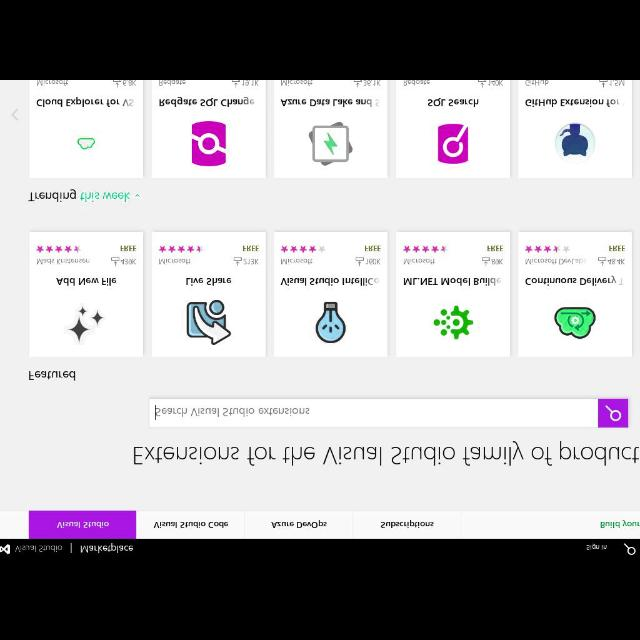icon: (604, 404, 622, 422), (624, 542, 638, 556), (133, 192, 143, 200), (598, 257, 606, 265), (356, 258, 364, 266), (234, 258, 242, 266), (232, 81, 240, 89), (112, 256, 118, 266), (114, 81, 122, 87), (352, 81, 360, 87), (477, 82, 485, 88), (600, 82, 606, 88), (482, 260, 490, 264)
image: (182, 301, 230, 344), (308, 120, 352, 166), (189, 119, 229, 167), (552, 124, 598, 164), (554, 302, 596, 343), (434, 302, 474, 342), (66, 304, 104, 344), (437, 121, 471, 165), (314, 302, 348, 344), (524, 244, 570, 253), (158, 245, 205, 253), (76, 135, 96, 153), (282, 245, 326, 253), (403, 244, 447, 252), (36, 247, 82, 253), (0, 542, 10, 554)
input: (148, 400, 626, 424)
spinner: (27, 187, 141, 203)
text: (132, 444, 640, 466), (156, 407, 310, 417), (30, 188, 130, 202), (524, 274, 624, 286), (280, 276, 378, 288), (403, 276, 501, 286), (278, 99, 380, 108), (158, 96, 255, 105), (36, 98, 134, 106), (526, 98, 622, 106), (80, 542, 134, 554), (526, 256, 588, 266), (57, 276, 117, 286), (154, 521, 228, 529), (28, 369, 76, 381), (380, 519, 434, 529), (186, 276, 232, 286), (272, 520, 328, 528), (58, 521, 110, 529), (428, 98, 480, 106), (13, 544, 63, 552), (598, 520, 640, 528), (36, 258, 90, 264), (36, 80, 68, 88), (282, 258, 312, 266), (159, 80, 185, 88), (158, 258, 190, 264), (404, 258, 436, 264), (280, 80, 312, 86), (586, 543, 608, 551), (402, 81, 430, 87), (524, 81, 550, 87), (120, 245, 138, 253), (242, 244, 260, 252), (364, 258, 382, 266), (364, 244, 382, 252), (122, 256, 136, 266), (487, 244, 503, 252), (609, 256, 625, 264), (244, 258, 258, 266), (610, 80, 624, 88), (363, 81, 381, 87), (609, 245, 627, 251), (242, 81, 260, 87), (491, 257, 504, 265), (488, 81, 504, 87), (122, 81, 136, 87)
toolbar: (2, 511, 640, 537)
